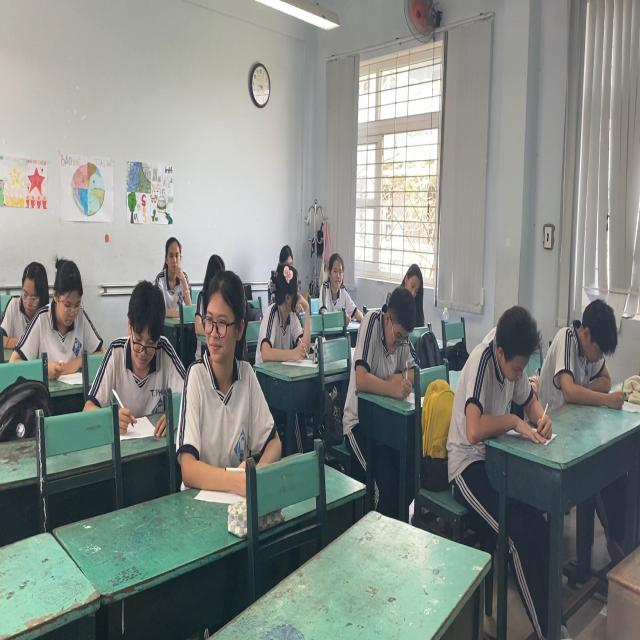cheating: (185, 258, 263, 457), (250, 250, 320, 360)
not_cheating: (466, 298, 552, 444), (110, 278, 180, 429), (547, 295, 632, 409), (40, 247, 100, 371), (356, 289, 417, 389), (317, 247, 358, 323), (152, 237, 193, 309), (15, 247, 48, 326), (398, 261, 428, 316)
